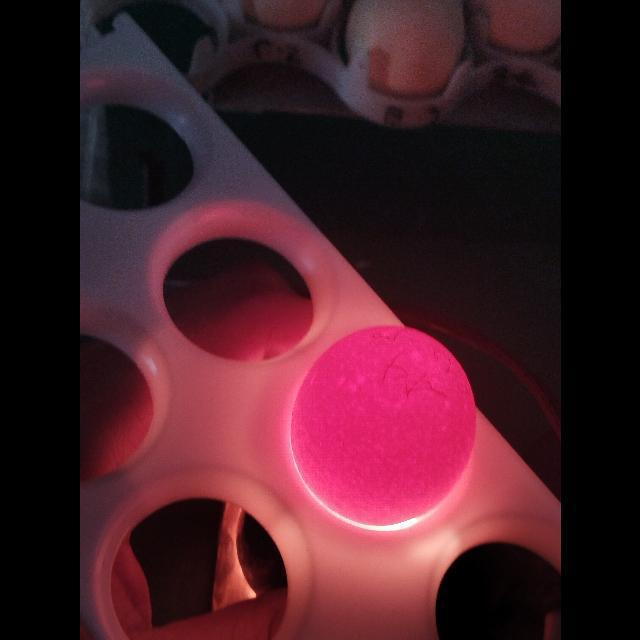Infertile: (293, 328, 479, 526)
